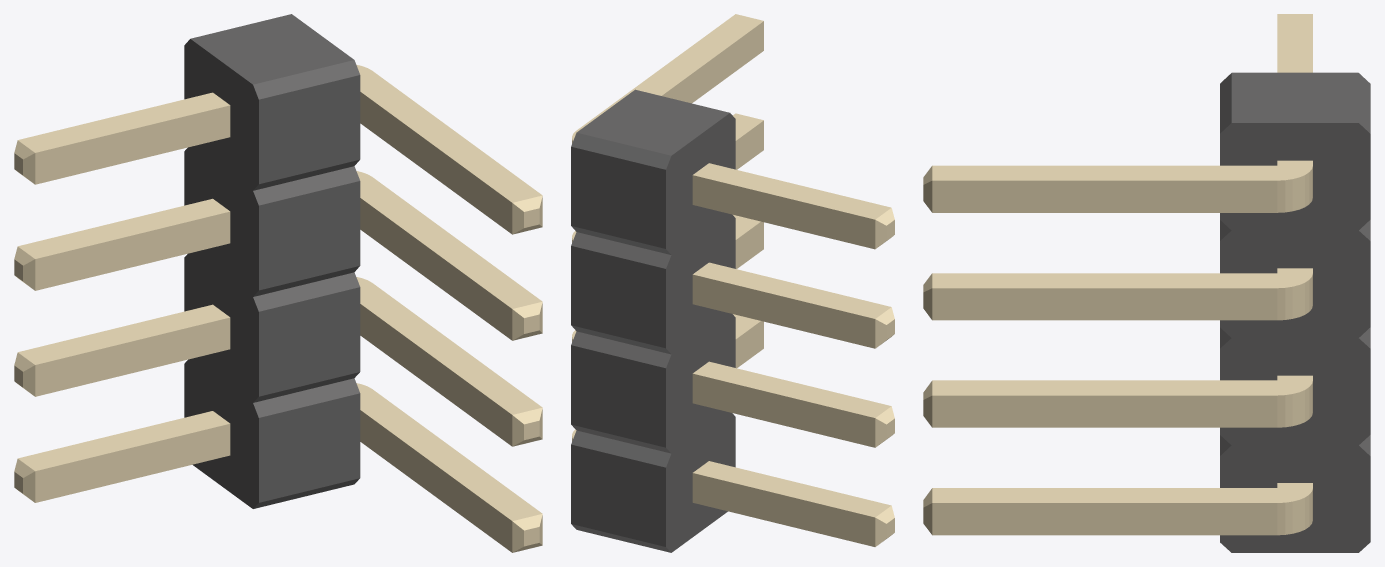
File: PinHeader_1x04_P1.00mm_Horizontal.glb
3 renders of one model, left to right at view 1: azimuth 30°, elevation 25°; view 2: azimuth 150°, elevation 25°; view 3: azimuth 270°, elevation 25°, orthographic. The views are drawn at different scales.
Visible parts, largest first — view 1: Shape_IndexedFaceSet.004, Shape_IndexedFaceSet.010, Shape_IndexedFaceSet.016, Shape_IndexedFaceSet.022, Shape_IndexedFaceSet.002, Shape_IndexedFaceSet.054, Shape_IndexedFaceSet.045, Shape_IndexedFaceSet.050, Shape_IndexedFaceSet.056, Shape_IndexedFaceSet.001, Shape_IndexedFaceSet.037, Shape_IndexedFaceSet.028 (+14 smaller); view 2: Shape_IndexedFaceSet.004, Shape_IndexedFaceSet.019, Shape_IndexedFaceSet.025, Shape_IndexedFaceSet.013, Shape_IndexedFaceSet.007, Shape_IndexedFaceSet.047, Shape_IndexedFaceSet.052, Shape_IndexedFaceSet.048, Shape_IndexedFaceSet.058, Shape_IndexedFaceSet.001, Shape_IndexedFaceSet.037, Shape_IndexedFaceSet.049 (+16 smaller); view 3: Shape_IndexedFaceSet.003, Shape_IndexedFaceSet.061, Shape_IndexedFaceSet.066, Shape_IndexedFaceSet.071, Shape_IndexedFaceSet.077, Shape_IndexedFaceSet.001, Shape_IndexedFaceSet.037, Shape_IndexedFaceSet.028, Shape_IndexedFaceSet.033, Shape_IndexedFaceSet.043, Shape_IndexedFaceSet.053, Shape_IndexedFaceSet.060 (+5 smaller).
Part boxes in pixels (box(x1,y1,x2,y2)): Shape_IndexedFaceSet.004: box(184, 39, 258, 508); Shape_IndexedFaceSet.010: box(259, 181, 360, 290); Shape_IndexedFaceSet.016: box(259, 287, 360, 396); Shape_IndexedFaceSet.022: box(259, 393, 360, 502); Shape_IndexedFaceSet.002: box(259, 75, 360, 184); Shape_IndexedFaceSet.054: box(35, 105, 230, 184); Shape_IndexedFaceSet.045: box(35, 317, 230, 396); Shape_IndexedFaceSet.050: box(35, 211, 230, 290); Shape_IndexedFaceSet.056: box(35, 424, 230, 502); Shape_IndexedFaceSet.001: box(190, 14, 353, 84); Shape_IndexedFaceSet.037: box(356, 64, 542, 202); Shape_IndexedFaceSet.028: box(356, 277, 542, 414); Shape_IndexedFaceSet.004: box(666, 113, 735, 552); Shape_IndexedFaceSet.019: box(571, 345, 665, 447); Shape_IndexedFaceSet.025: box(571, 444, 665, 546); Shape_IndexedFaceSet.013: box(571, 246, 665, 348); Shape_IndexedFaceSet.007: box(571, 146, 665, 248); Shape_IndexedFaceSet.047: box(692, 373, 875, 447); Shape_IndexedFaceSet.052: box(692, 175, 875, 249); Shape_IndexedFaceSet.048: box(692, 274, 875, 348); Shape_IndexedFaceSet.058: box(692, 473, 875, 546); Shape_IndexedFaceSet.001: box(577, 89, 729, 155); Shape_IndexedFaceSet.037: box(572, 14, 763, 140); Shape_IndexedFaceSet.049: box(693, 262, 891, 318); Shape_IndexedFaceSet.003: box(1220, 123, 1370, 552); Shape_IndexedFaceSet.061: box(932, 395, 1277, 427); Shape_IndexedFaceSet.066: box(932, 288, 1277, 320); Shape_IndexedFaceSet.071: box(932, 180, 1277, 212); Shape_IndexedFaceSet.077: box(932, 503, 1277, 535); Shape_IndexedFaceSet.001: box(1231, 72, 1358, 122); Shape_IndexedFaceSet.037: box(932, 160, 1312, 180); Shape_IndexedFaceSet.028: box(932, 375, 1312, 395); Shape_IndexedFaceSet.033: box(932, 268, 1312, 288); Shape_IndexedFaceSet.043: box(932, 483, 1312, 502); Shape_IndexedFaceSet.053: box(1277, 14, 1312, 72); Shape_IndexedFaceSet.060: box(1277, 381, 1312, 427).
Size of the model in its own units: 1.34 by 1.58 by 1.48.
